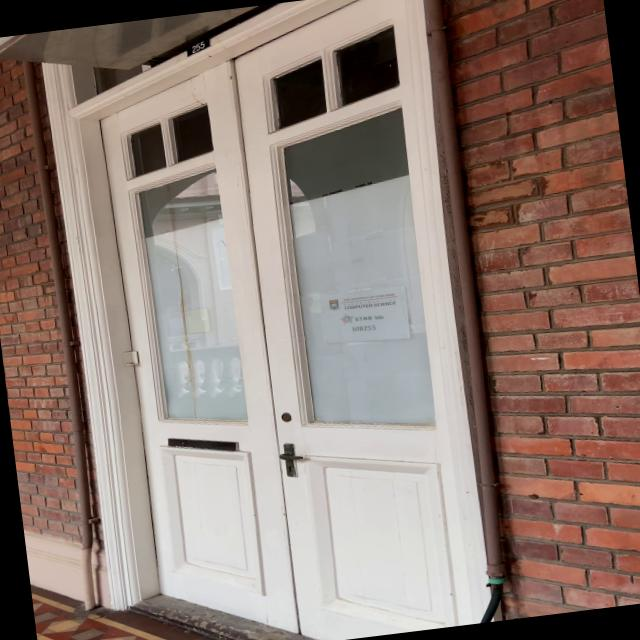room255: (180, 37, 213, 57)
